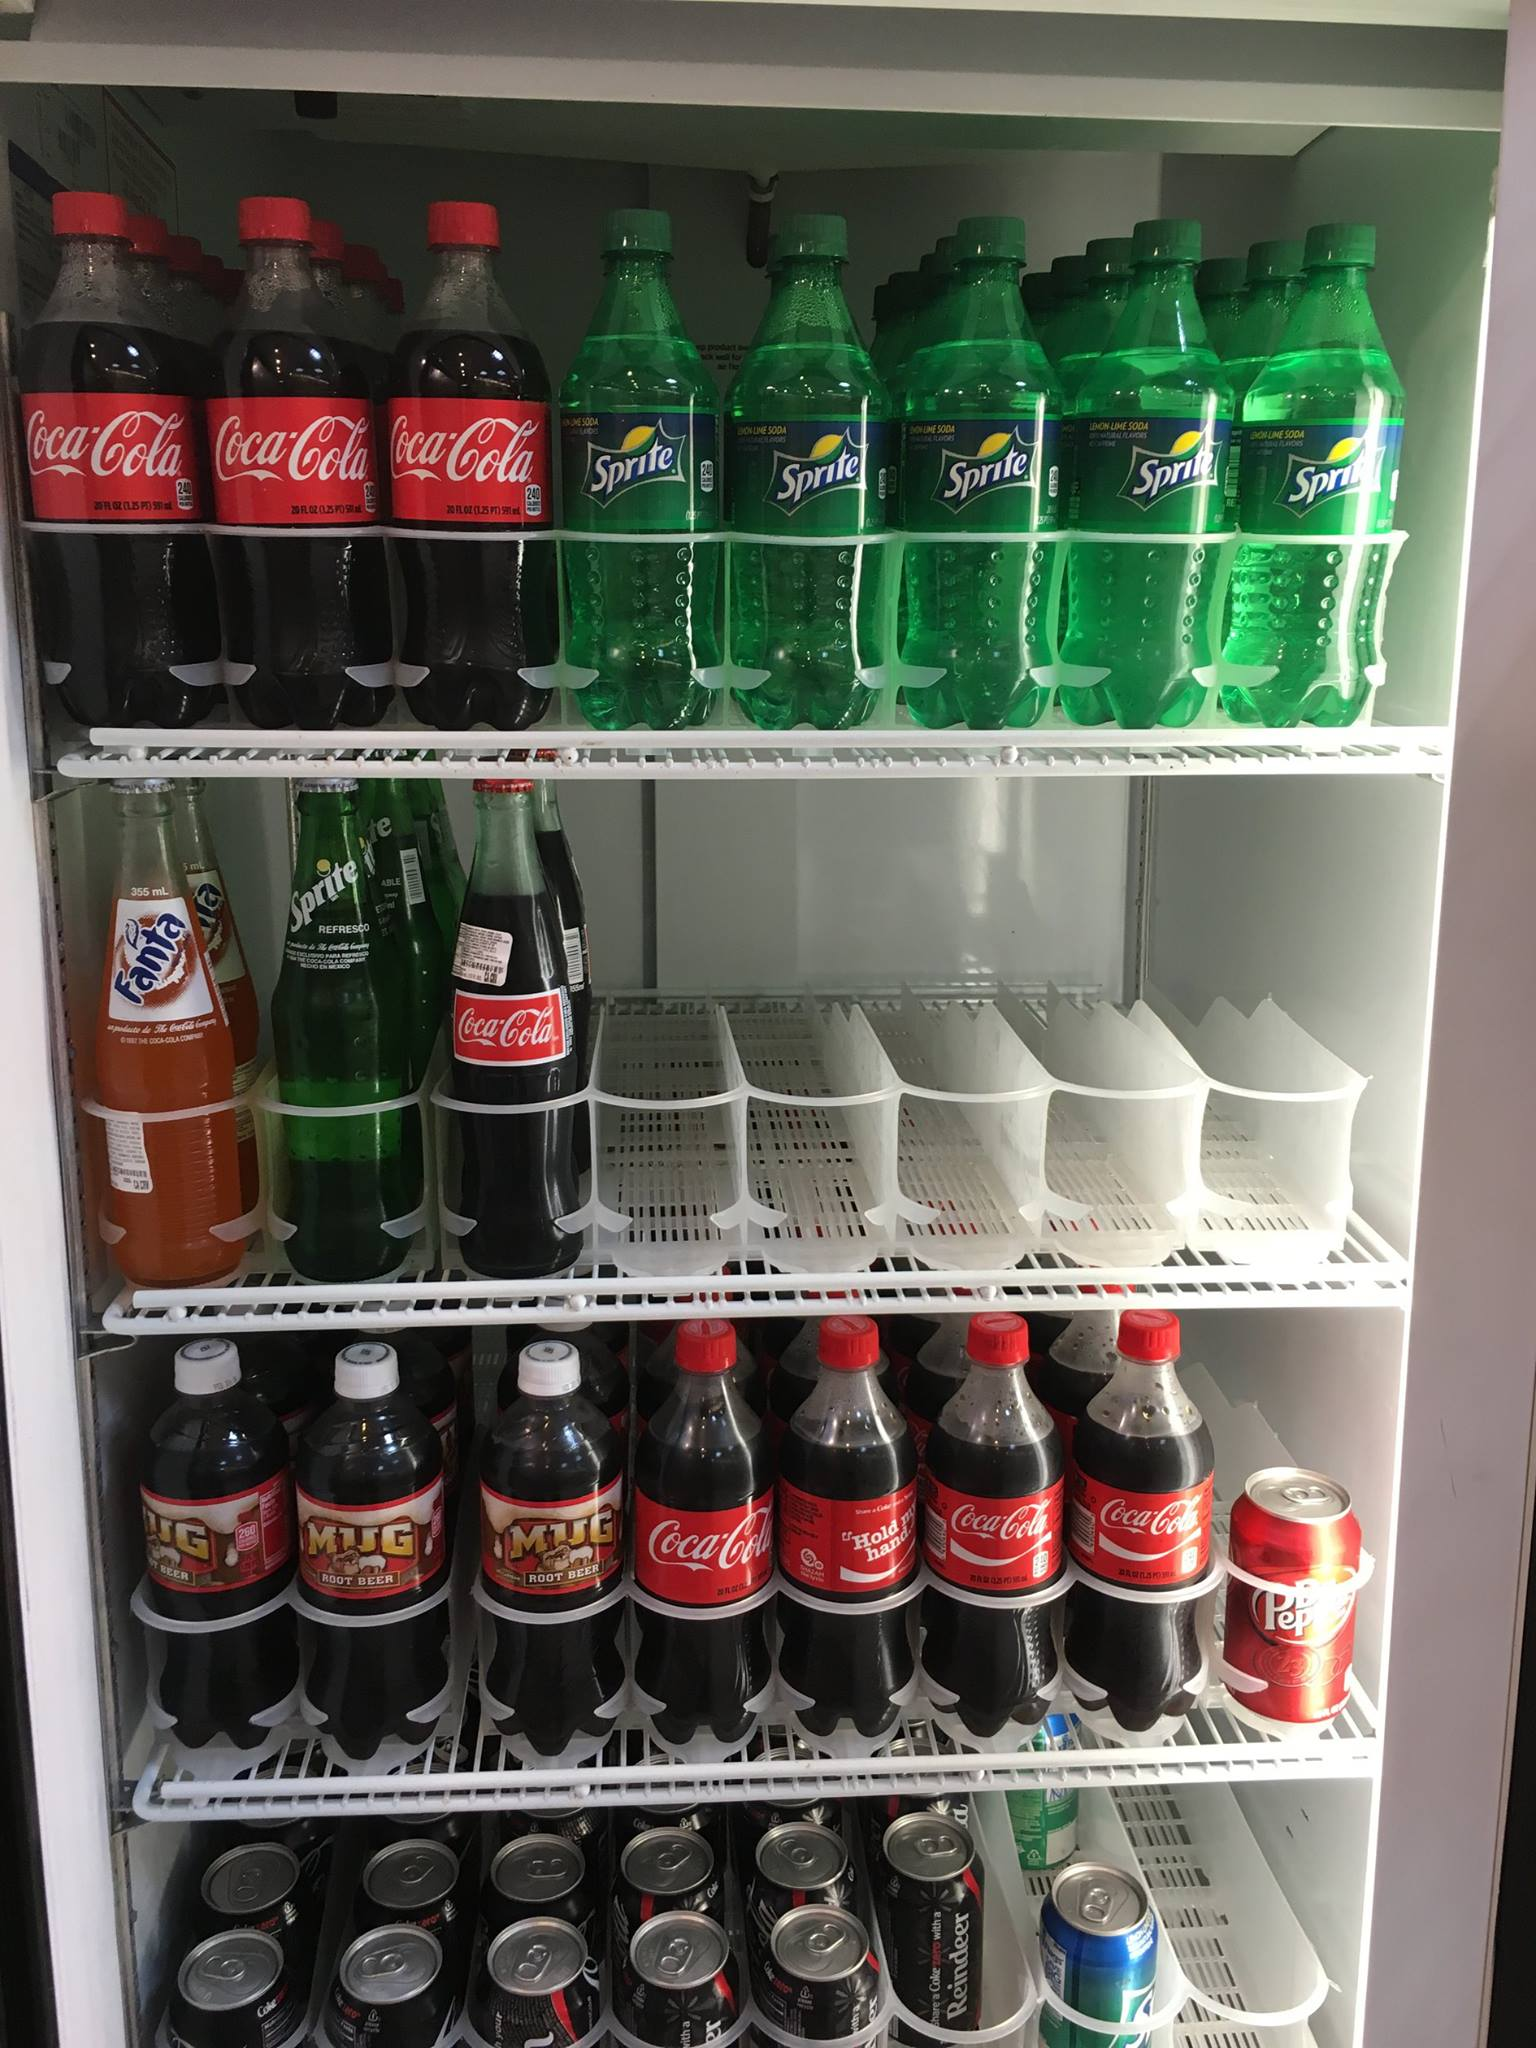cocacola: (211, 406, 369, 490), (27, 405, 181, 485), (387, 413, 541, 493), (644, 1509, 770, 1579), (1097, 1495, 1205, 1558), (954, 1500, 1055, 1559), (453, 1005, 561, 1059)
fanta: (118, 908, 198, 1014)
mugrootbeer: (502, 1509, 616, 1595), (303, 1514, 423, 1593)
sprite: (1112, 426, 1225, 518), (766, 427, 873, 519), (1275, 431, 1381, 521), (928, 432, 1041, 514), (584, 427, 687, 510), (287, 860, 365, 942)
